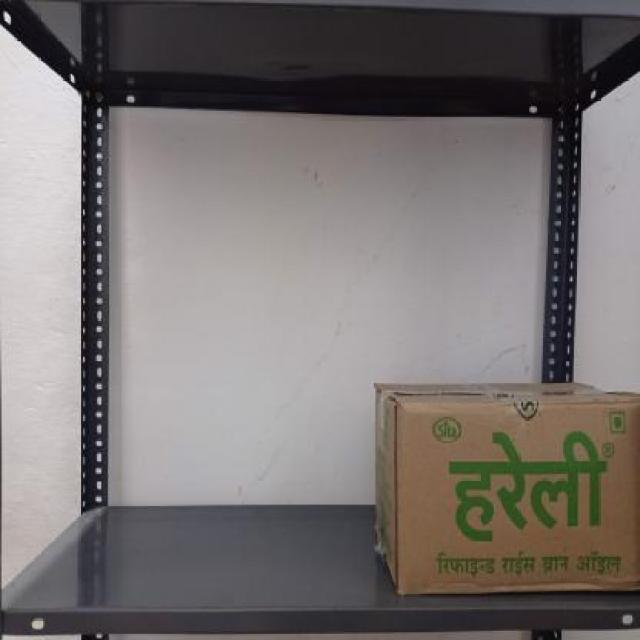box: (395, 403, 640, 591)
